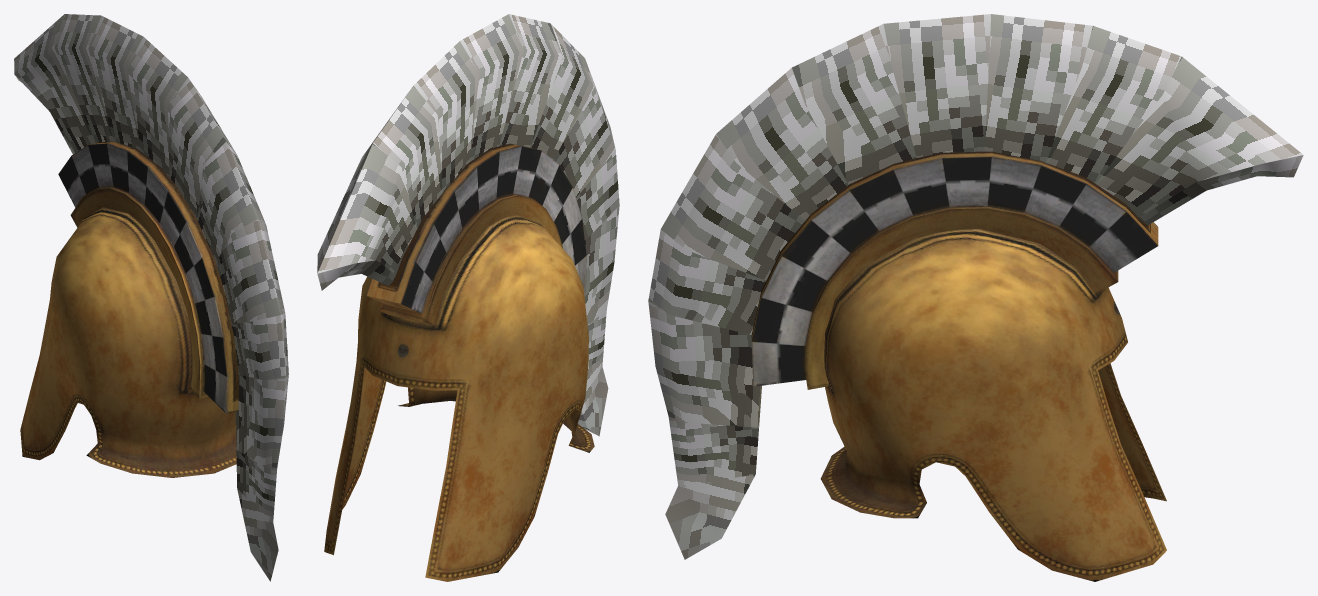
The model's file is helm_hele_illyrian_b1_crested.glb.
3 renders of one model, left to right at view 1: azimuth 30°, elevation 25°; view 2: azimuth 150°, elevation 25°; view 3: azimuth 270°, elevation 25°, orthographic. The views are drawn at different scales.
Visible parts, largest first — view 1: helm_hele_illyrian_b1_crested_part2, helm_hele_illyrian_b1_crested_part0, helm_hele_illyrian_b1_crested_part1; view 2: helm_hele_illyrian_b1_crested_part0, helm_hele_illyrian_b1_crested_part2, helm_hele_illyrian_b1_crested_part1; view 3: helm_hele_illyrian_b1_crested_part2, helm_hele_illyrian_b1_crested_part0, helm_hele_illyrian_b1_crested_part1.
Part boxes in pixels (x1=…): helm_hele_illyrian_b1_crested_part2: x1=14, y1=14, x2=288, y2=581; helm_hele_illyrian_b1_crested_part0: x1=20, y1=207, x2=236, y2=477; helm_hele_illyrian_b1_crested_part1: x1=58, y1=141, x2=238, y2=413; helm_hele_illyrian_b1_crested_part0: x1=324, y1=215, x2=594, y2=581; helm_hele_illyrian_b1_crested_part2: x1=317, y1=14, x2=619, y2=436; helm_hele_illyrian_b1_crested_part1: x1=366, y1=143, x2=586, y2=325; helm_hele_illyrian_b1_crested_part2: x1=648, y1=14, x2=1303, y2=559; helm_hele_illyrian_b1_crested_part0: x1=820, y1=229, x2=1166, y2=581; helm_hele_illyrian_b1_crested_part1: x1=751, y1=151, x2=1158, y2=389.
Size of the model in its own units: 0.4523 by 1.12 by 1.22.
Materials: 3 (3 with a texture image).
